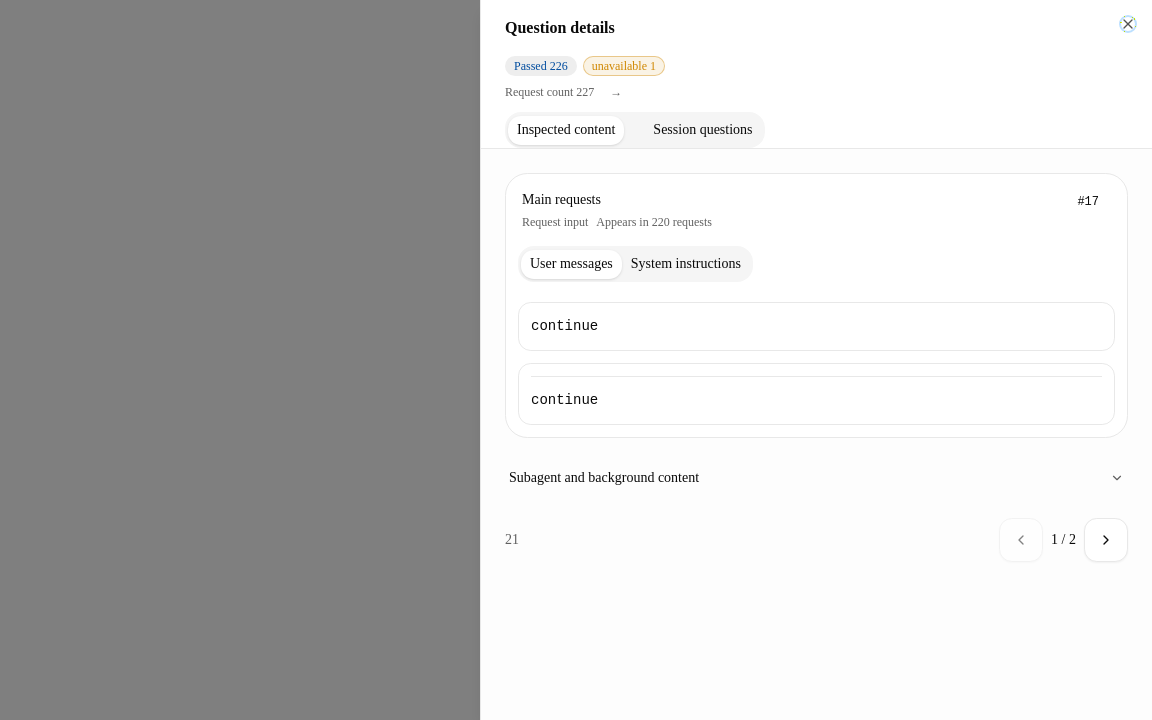
Test: question detail reading › shows a read-only session index without jump controls
expect the tab "User messages" is shown: met, box left=521, top=250, right=622, bottom=278
Click the tab "Session questions".
click(703, 130)  # box left=644, top=116, right=762, bottom=144
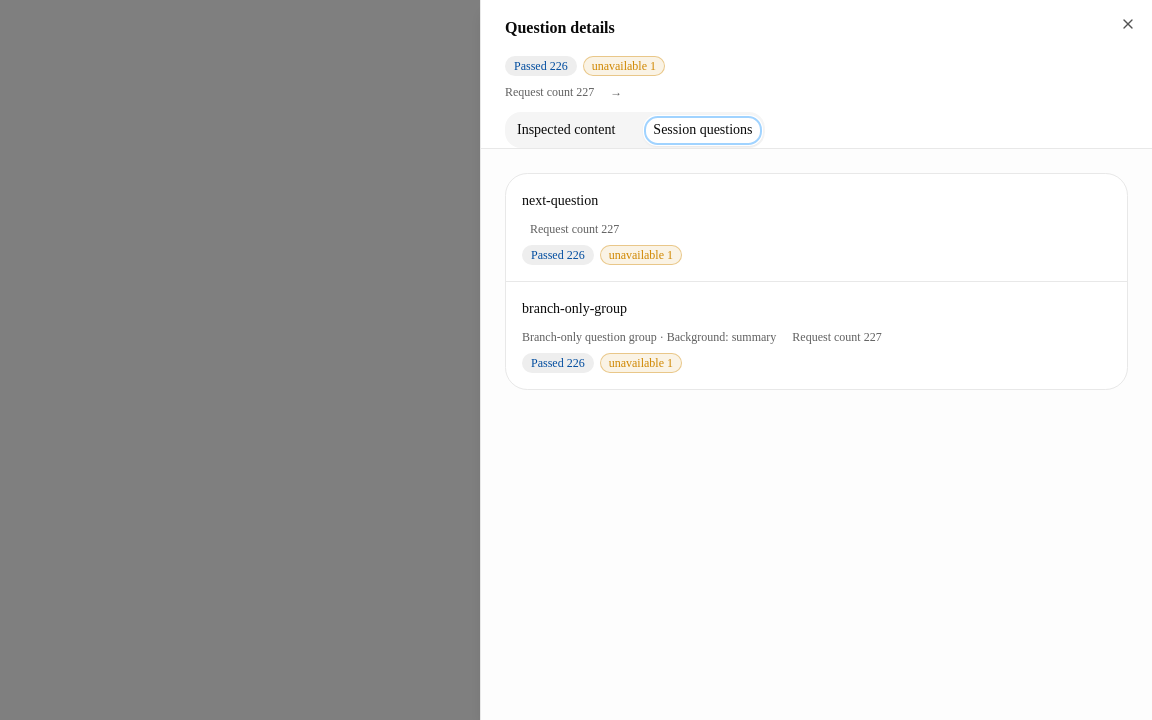
expect the text "next-question" is shown: met, box left=522, top=193, right=598, bottom=208
